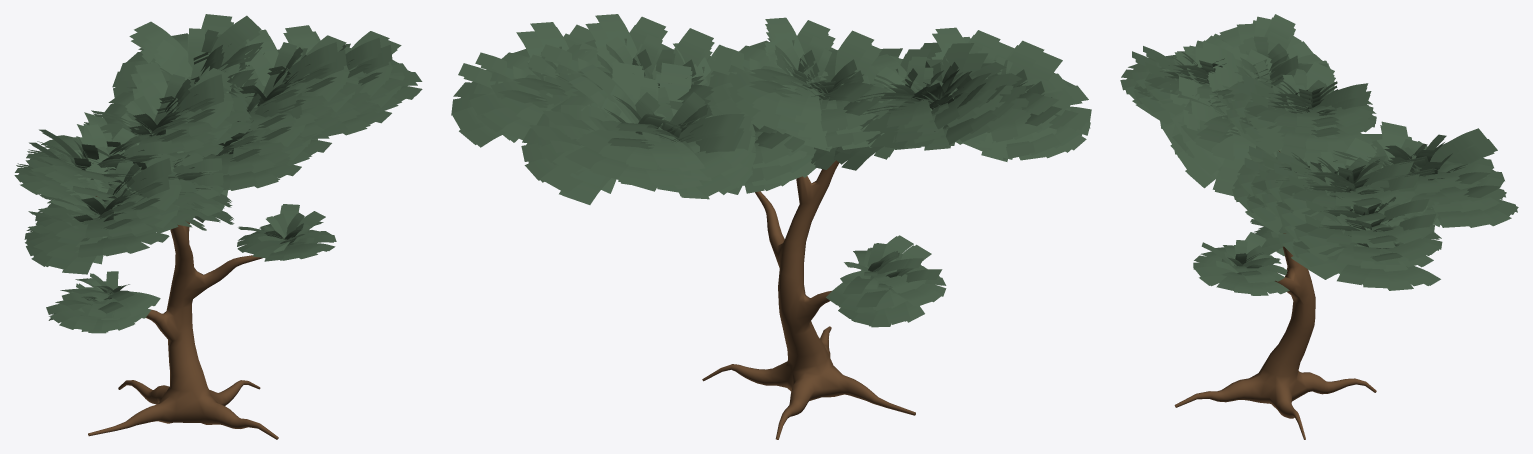
Rendered from bigJungleTree_low.fbx.
3 renders of one model, left to right at view 1: azimuth 30°, elevation 25°; view 2: azimuth 150°, elevation 25°; view 3: azimuth 270°, elevation 25°, orthographic. The views are drawn at different scales.
Parts seen in each view (by area): view 1: jungleLeafBig_low1, jungleLeafBig_low, jungleTruckBig_low1; view 2: jungleLeafBig_low1, jungleLeafBig_low, jungleTruckBig_low1; view 3: jungleLeafBig_low1, jungleLeafBig_low, jungleTruckBig_low1.
Part boxes in pixels (x1,y1,x2,y2): jungleLeafBig_low1: [14, 14, 422, 333]; jungleLeafBig_low: [18, 21, 417, 332]; jungleTruckBig_low1: [88, 196, 278, 439]; jungleLeafBig_low1: [451, 14, 1091, 327]; jungleLeafBig_low: [460, 21, 1082, 326]; jungleTruckBig_low1: [702, 160, 915, 439]; jungleLeafBig_low1: [1120, 14, 1518, 295]; jungleLeafBig_low: [1125, 28, 1513, 295]; jungleTruckBig_low1: [1174, 150, 1376, 439].
Size of the model in its own units: 1810 by 1233 by 1366.
